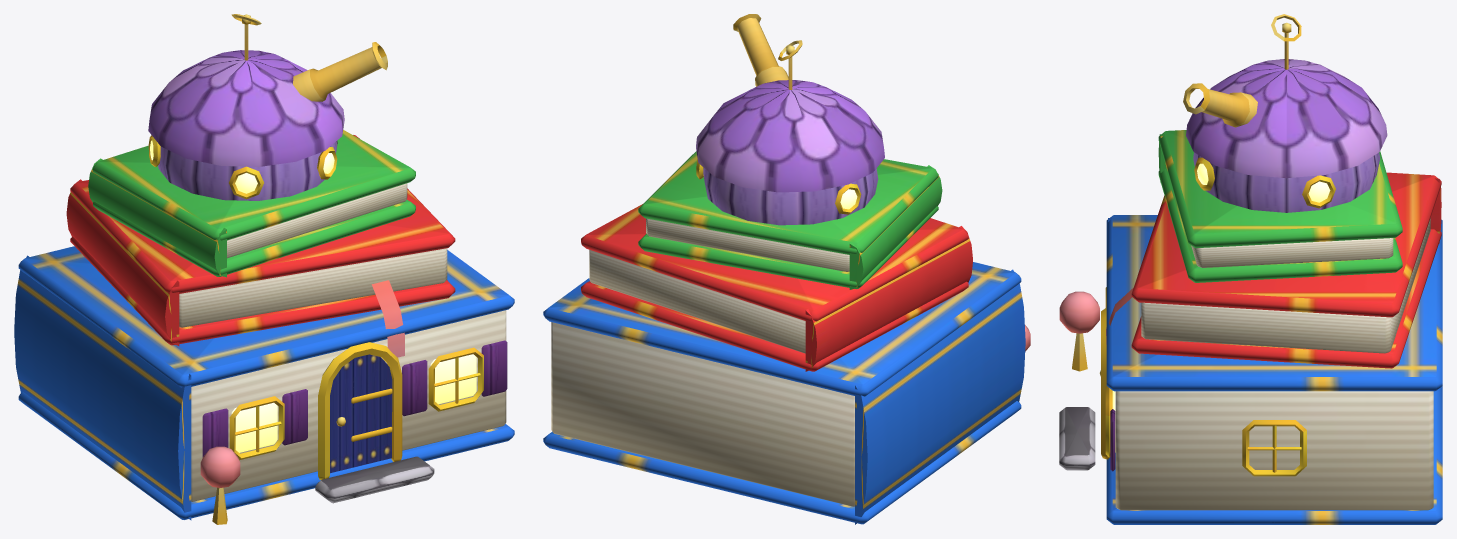
The model's file is research.glb.
3 renders of one model, left to right at view 1: azimuth 30°, elevation 25°; view 2: azimuth 150°, elevation 25°; view 3: azimuth 270°, elevation 25°, orthographic. The views are drawn at different scales.
Visible parts, largest first — view 1: research; view 2: research; view 3: research.
Boxes of the visible parts, <box> form: research: <box>14,14,514,524</box>; research: <box>543,14,1030,524</box>; research: <box>1059,14,1442,524</box>.
Bounding box in the file's own units: 6.64 × 7.68 × 6.39.
Materials: 4 (4 with a texture image).
